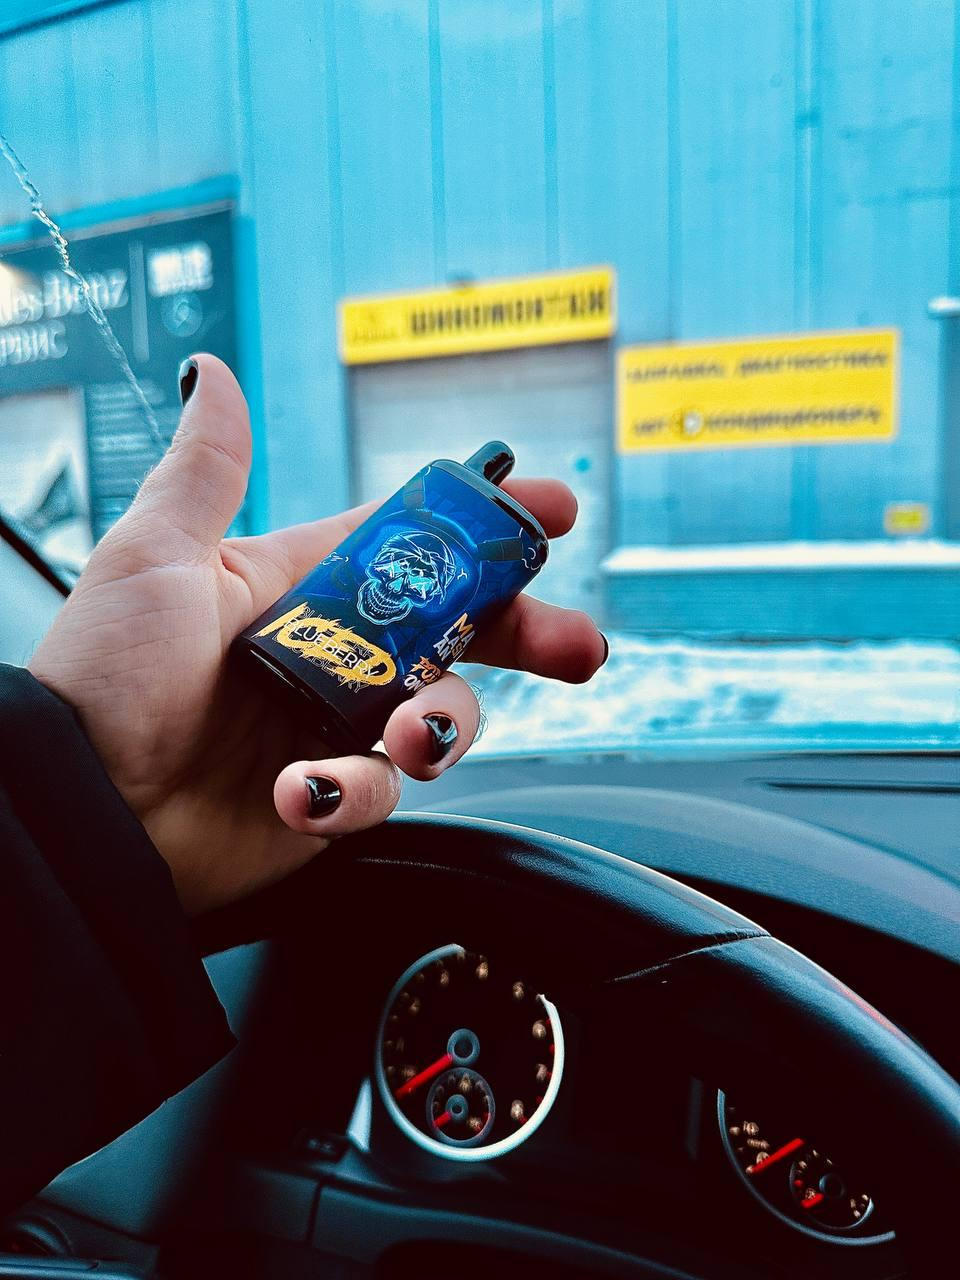Vape: (235, 442, 548, 752)
